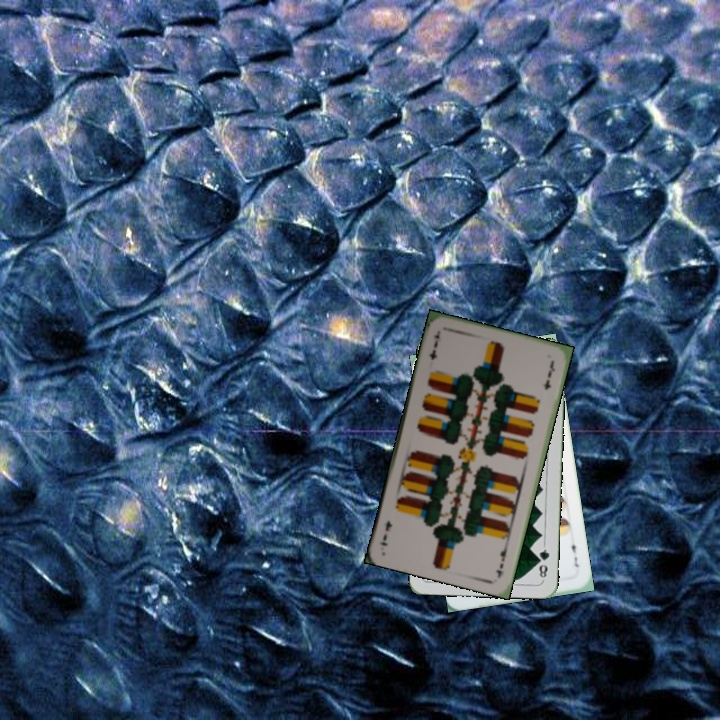E7: (492, 540, 510, 580), (425, 328, 443, 363), (567, 536, 582, 570)
G8: (534, 542, 552, 582)
